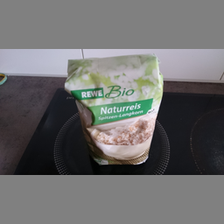rice: (63, 54, 165, 166)
